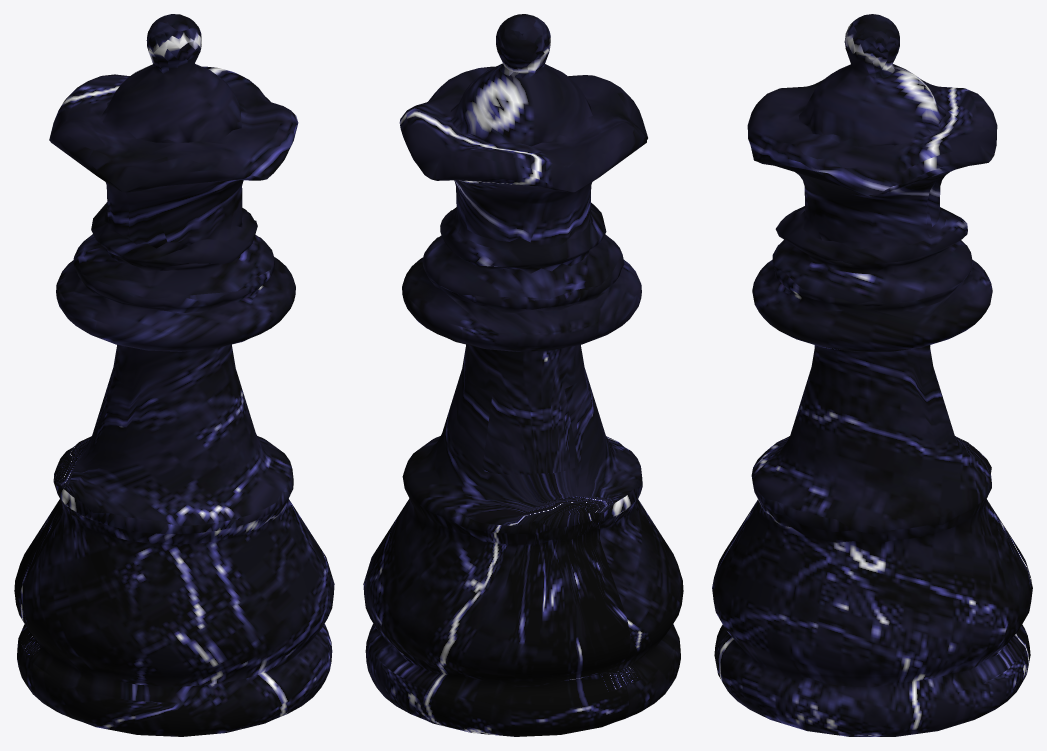
Rendered from black_queen.glb.
The picture shows the model from 3 angles, left to right: view 1: azimuth 30°, elevation 25°; view 2: azimuth 150°, elevation 25°; view 3: azimuth 270°, elevation 25°; orthographic projection.
Visible parts, largest first — view 1: Circle.001; view 2: Circle.001; view 3: Circle.001.
Boxes of the visible parts, x1=… form: Circle.001: x1=14, y1=14, x2=334, y2=736; Circle.001: x1=363, y1=14, x2=683, y2=736; Circle.001: x1=712, y1=14, x2=1032, y2=736.
Bounding box in the file's own units: 1.41 × 3.22 × 1.41.
Materials: 1 (1 with a texture image).
